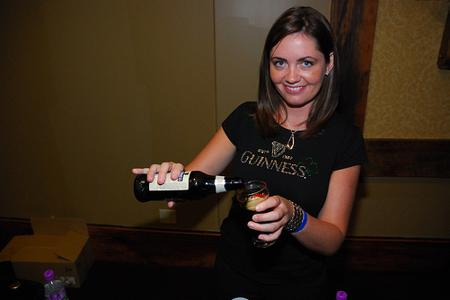person: (131, 6, 369, 257)
